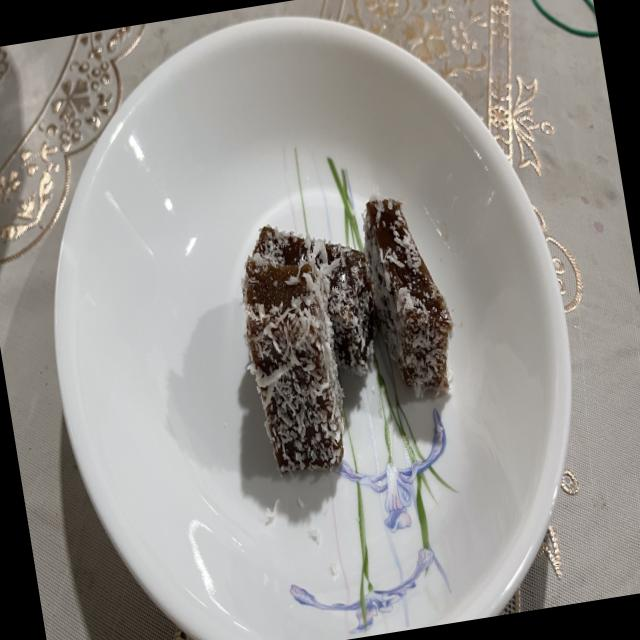kaswi: (242, 252, 344, 472), (254, 227, 377, 376), (363, 198, 453, 397)
